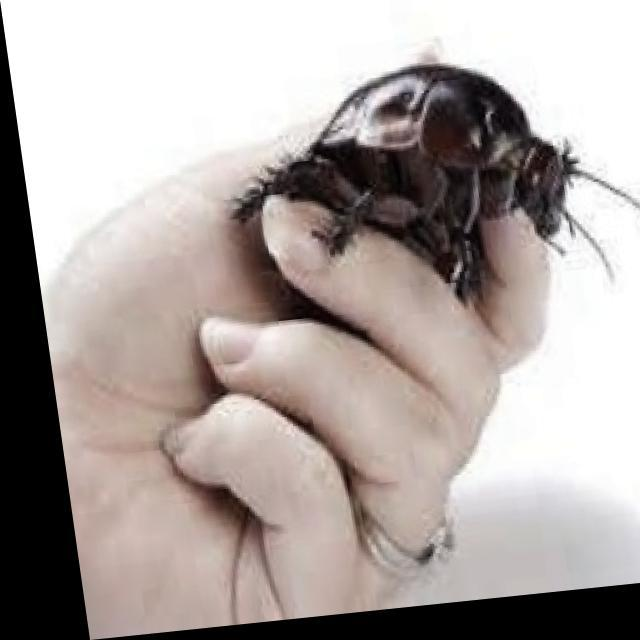cockroach: (262, 40, 582, 326)
